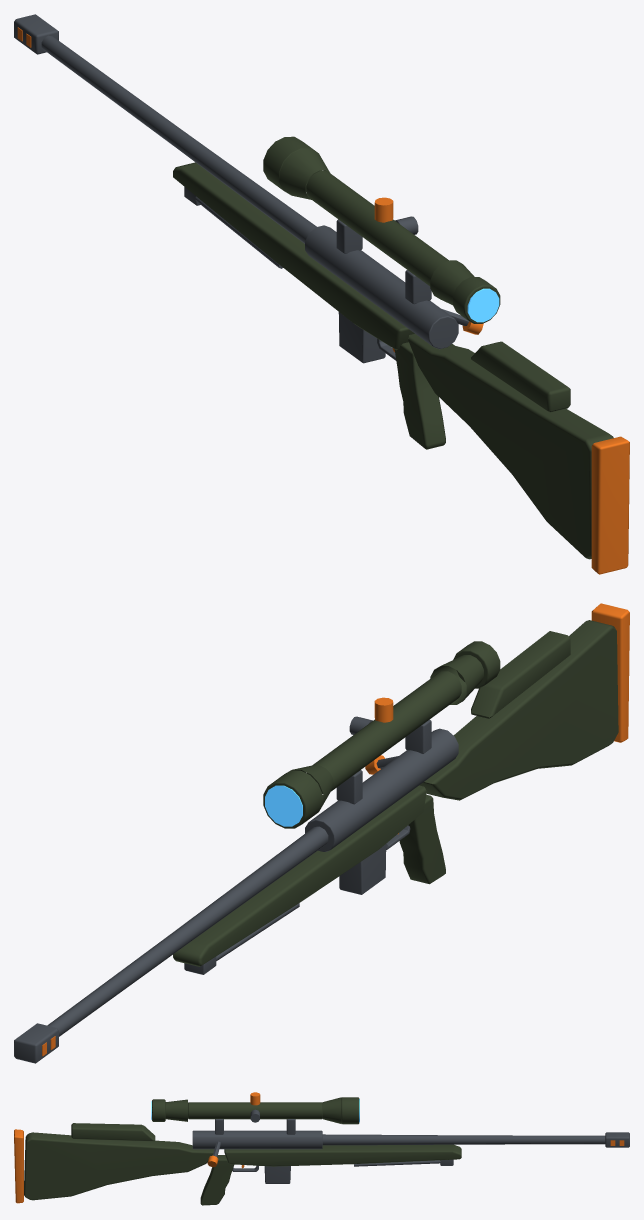
The model's file is weapon_sniper.glb.
The picture shows the model from 3 angles, top to bottom: view 1: azimuth 30°, elevation 25°; view 2: azimuth 150°, elevation 25°; view 3: azimuth 270°, elevation 25°; orthographic projection. The views are drawn at different scales.
Parts seen in each view (by area): view 1: Weapon_Sniper; view 2: Weapon_Sniper; view 3: Weapon_Sniper.
Part boxes in pixels (x1,y1,x2,y2): Weapon_Sniper: (14, 14, 629, 574); Weapon_Sniper: (14, 603, 629, 1063); Weapon_Sniper: (14, 1092, 629, 1205).
Size of the model in its own units: 0.1062 by 0.2678 by 1.37.
